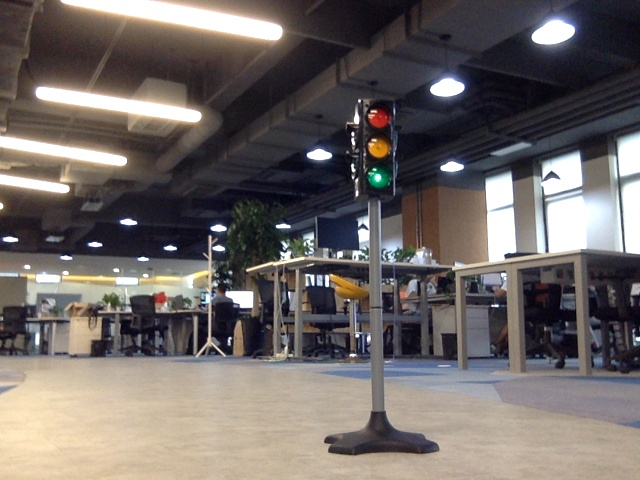green: (361, 106, 390, 192)
